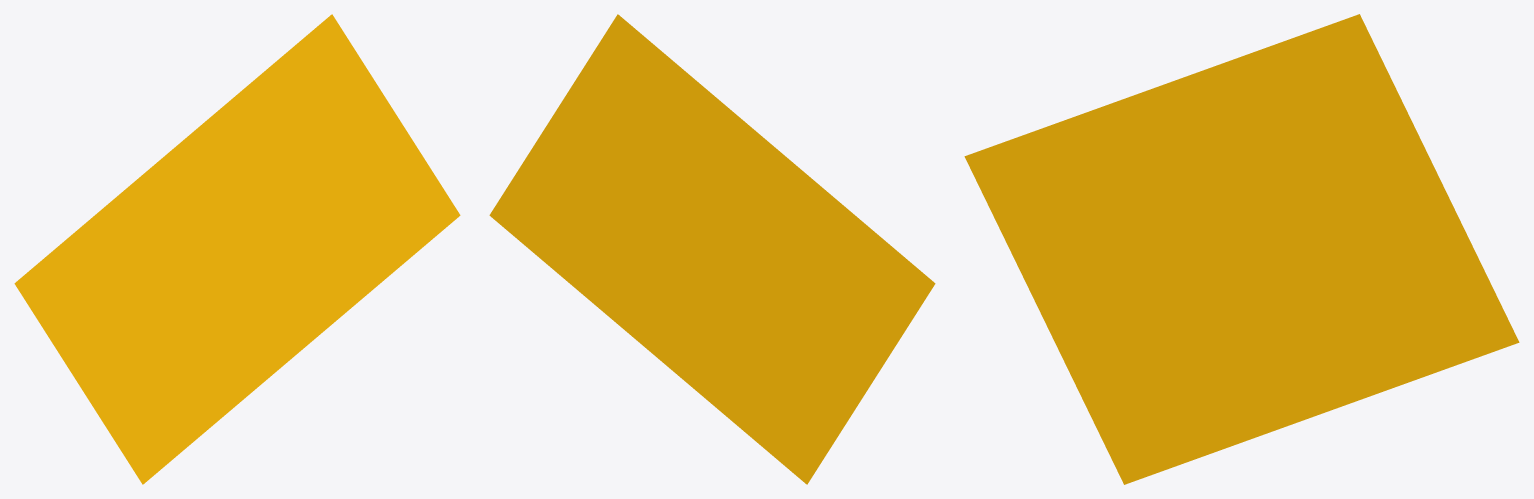
File: loose_animation_diagnostics.gltf
3 renders of one model, left to right at view 1: azimuth 30°, elevation 25°; view 2: azimuth 150°, elevation 25°; view 3: azimuth 330°, elevation 25°, orthographic. The views are drawn at different scales.
Parts seen in each view (by area): view 1: Animated; view 2: Animated; view 3: Animated.
Boxes of the visible parts, x1,y1,x2,y2 form: Animated: [14, 14, 460, 484]; Animated: [489, 14, 935, 484]; Animated: [964, 14, 1519, 484].
Bounding box in the file's own units: 0.2432 × 0.2212 × 0.
